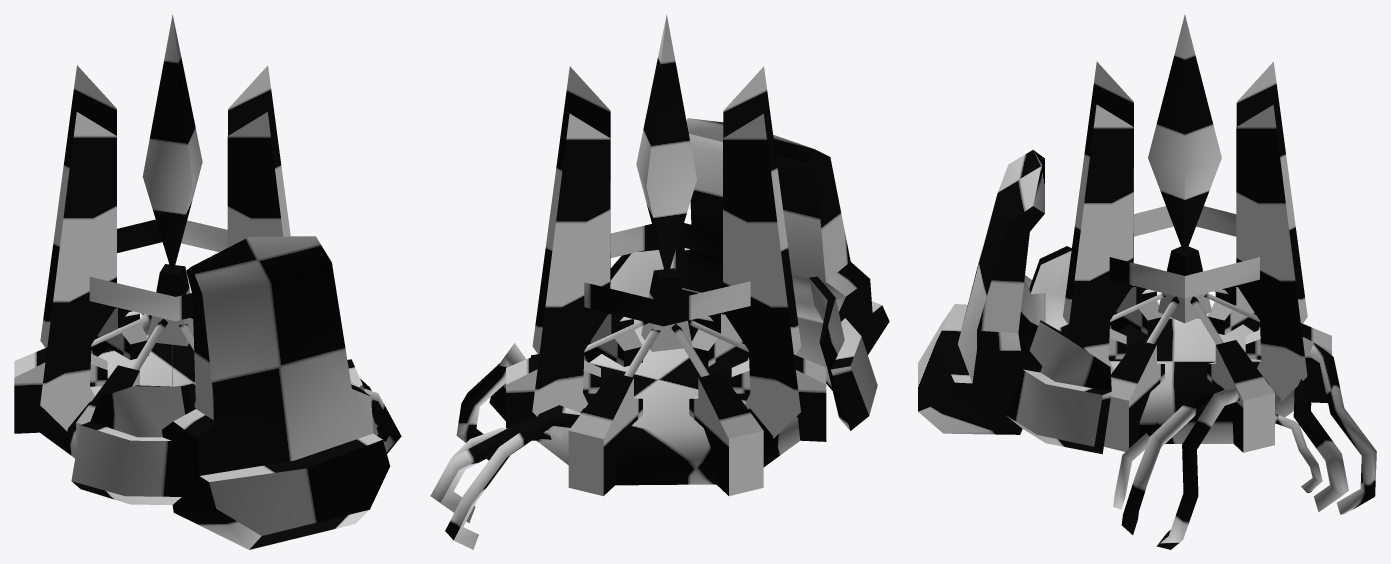
File: am-laser-module.obj
The picture shows the model from 3 angles, left to right: view 1: azimuth 30°, elevation 25°; view 2: azimuth 150°, elevation 25°; view 3: azimuth 270°, elevation 25°; orthographic projection. The views are drawn at different scales.
Visible parts, largest first — view 1: cbs_module_laser_am; view 2: cbs_module_laser_am; view 3: cbs_module_laser_am.
Boxes of the visible parts, box(x1,y1,x2,y2) form: cbs_module_laser_am: box(14, 15, 401, 549); cbs_module_laser_am: box(430, 14, 889, 549); cbs_module_laser_am: box(918, 14, 1376, 549).
Size of the model in its own units: 103 by 134 by 123.
Materials: 1 (1 with a texture image).
